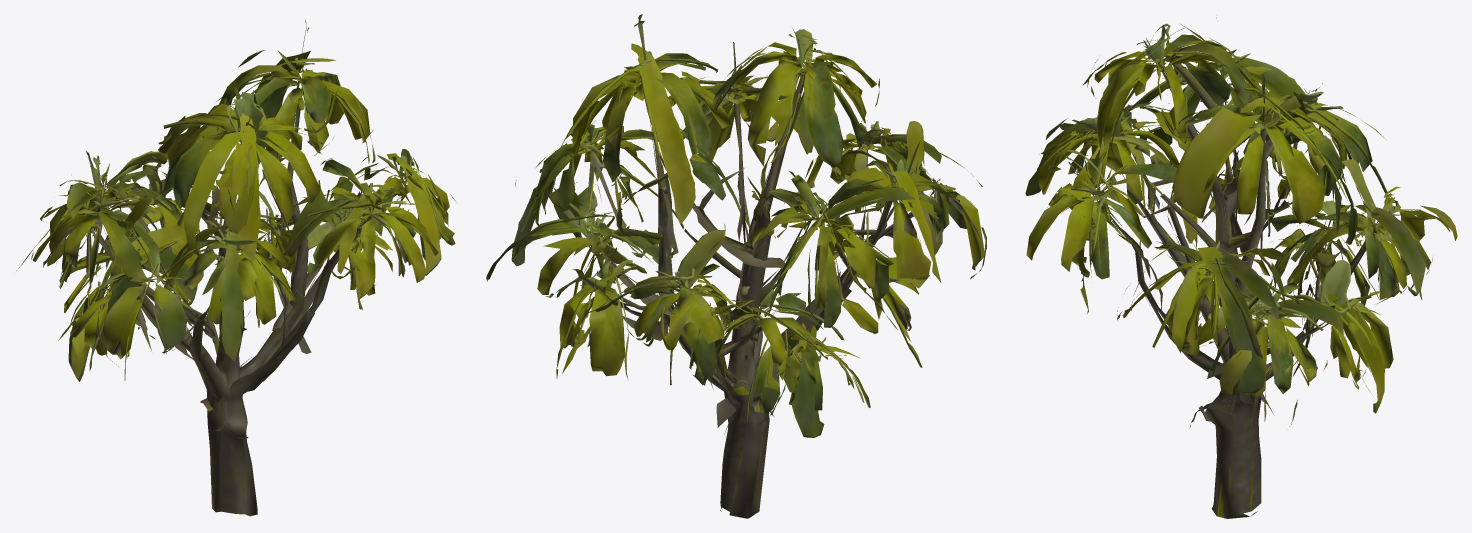
File: tree_01_umbrella_canopy.glb
The picture shows the model from 3 angles, left to right: view 1: azimuth 30°, elevation 25°; view 2: azimuth 150°, elevation 25°; view 3: azimuth 270°, elevation 25°; orthographic projection. The views are drawn at different scales.
Parts seen in each view (by area): view 1: geometry_0; view 2: geometry_0; view 3: geometry_0.
Part boxes in pixels (x1=…): geometry_0: x1=16, y1=19, x2=457, y2=516; geometry_0: x1=486, y1=14, x2=986, y2=518; geometry_0: x1=1025, y1=17, x2=1457, y2=518.
Size of the model in its own units: 0.9611 by 1 by 0.7911.
1 material, 1 textured.
